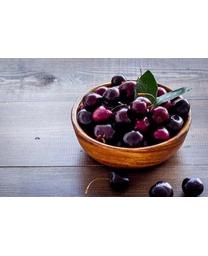cherry: (108, 170, 132, 192), (111, 108, 134, 130), (120, 81, 140, 106), (93, 122, 115, 141), (181, 177, 204, 195), (122, 129, 143, 148), (149, 181, 174, 196), (174, 97, 190, 120), (102, 88, 120, 108), (83, 94, 104, 111), (150, 108, 168, 127), (94, 105, 111, 124), (130, 99, 148, 116), (78, 109, 94, 128), (153, 129, 170, 144)
